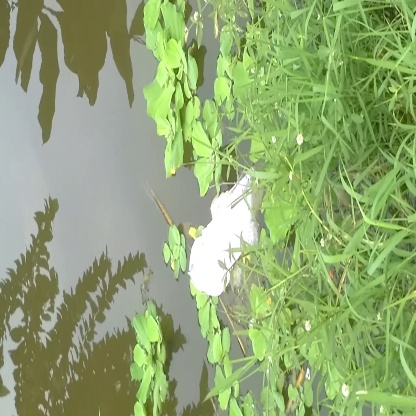plastic-bag: (178, 169, 283, 296)
